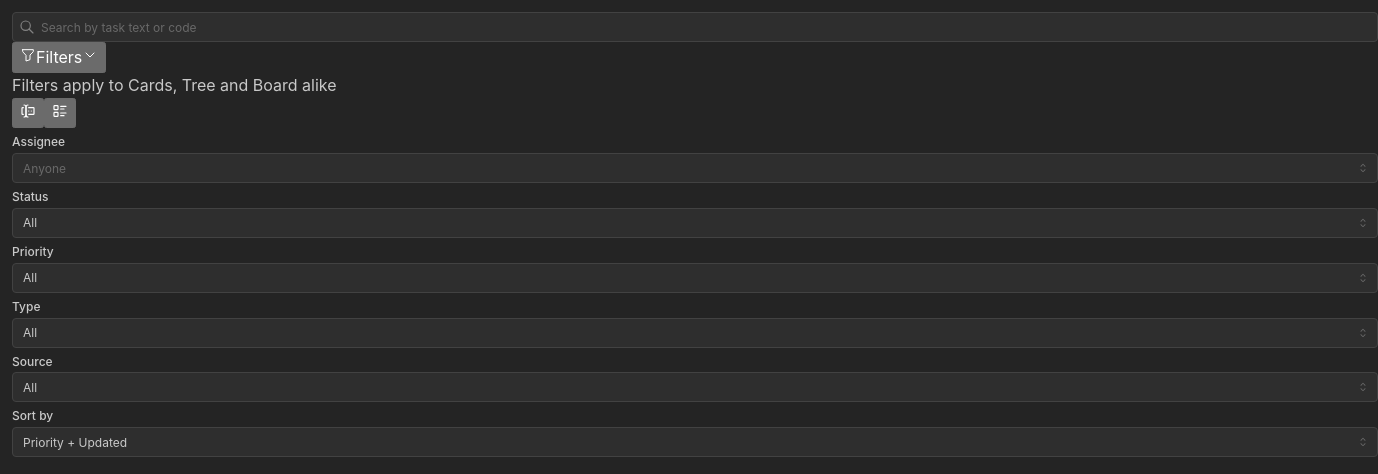
TaskFilters — sk-285.5.5 assignee directory search › with an empty term only the local options are listed
Click the field labelled "Assignee". click: (695, 168)
box: x1=12 y1=153 x2=1377 y2=183
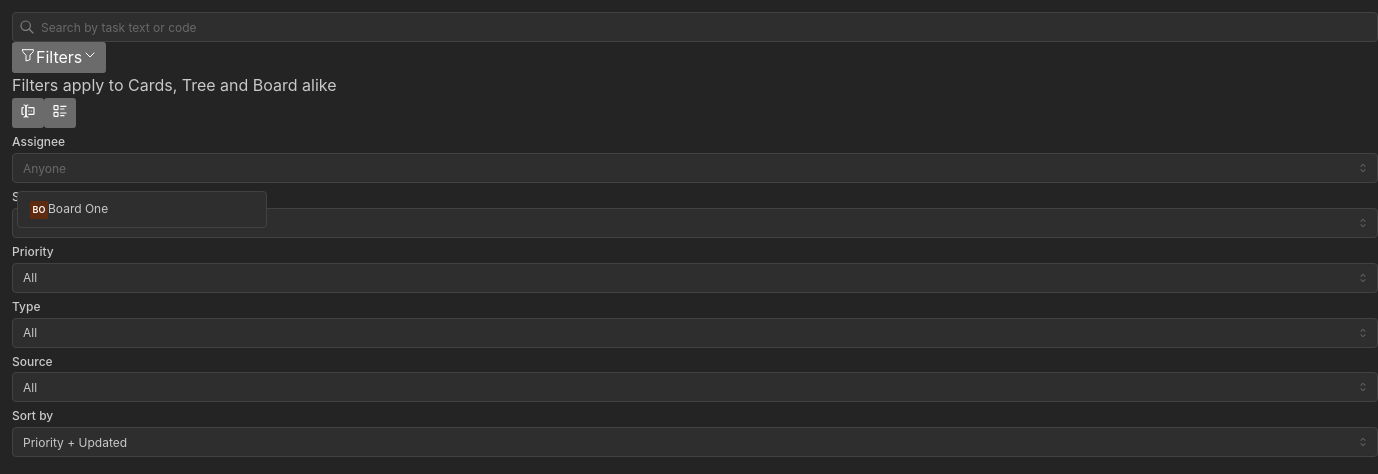
expect the number of options is 1: met, box x1=30 y1=201 x2=108 y2=219
